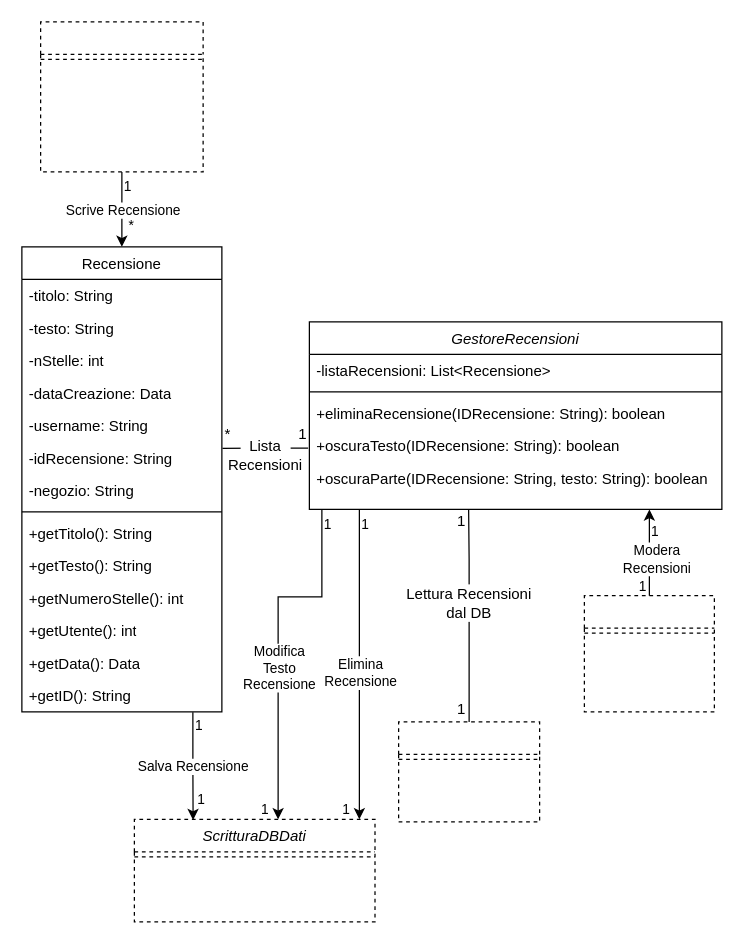
The diagram is 744 pixels wide and 944 high, and some of its shapes have lost their labels. The shapes that lost their labels are listed below. From the top down, each one's centre as x and y in pixels, then its label:
the point at 121,96: Utente
the point at 648,653: Amministratore
the point at 468,771: LetturaDBDati
